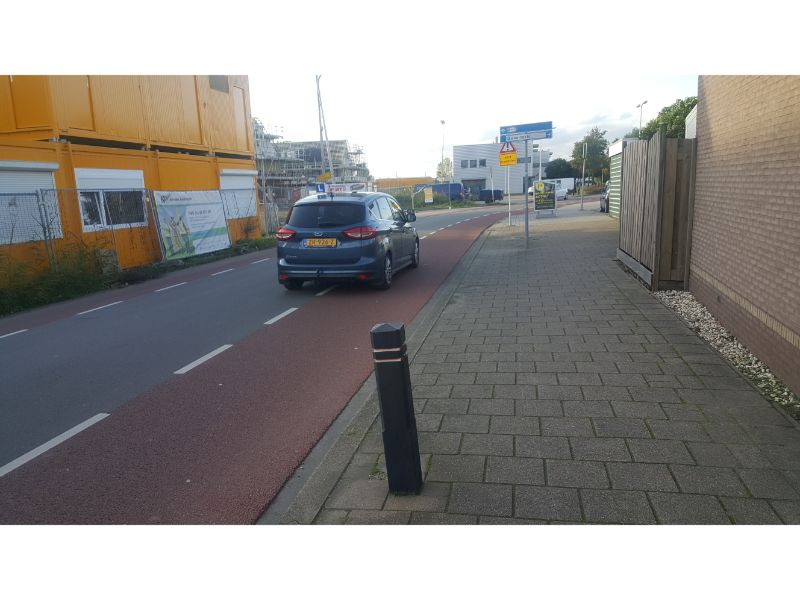kenteken: (303, 236, 338, 248)
